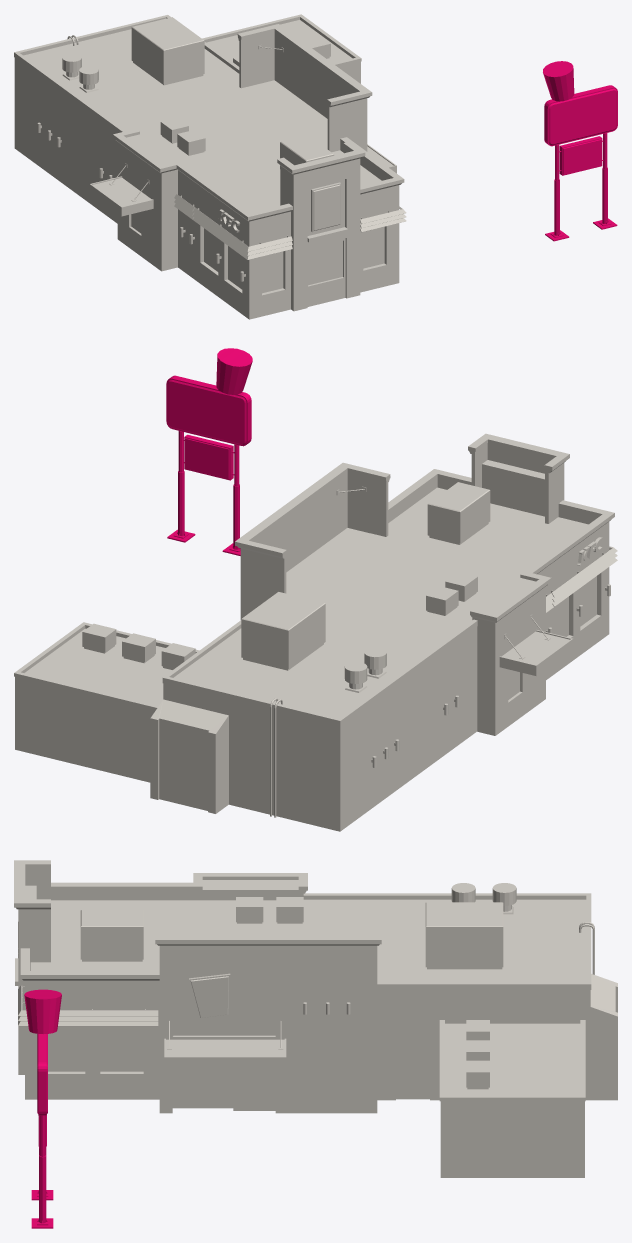
The model's file is kfc.glb.
3 renders of one model, top to bottom at view 1: azimuth 30°, elevation 25°; view 2: azimuth 150°, elevation 25°; view 3: azimuth 270°, elevation 25°, orthographic. The views are drawn at different scales.
Bounding box in the file's own units: 2.44 × 0.9415 × 2.5.
